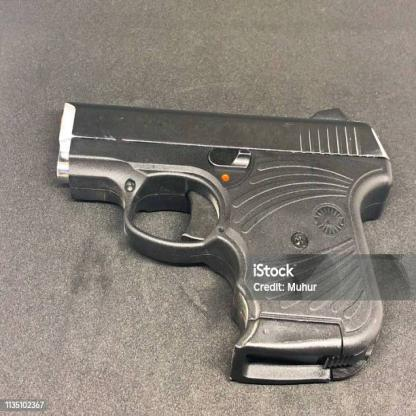handgun: (53, 102, 396, 385)
